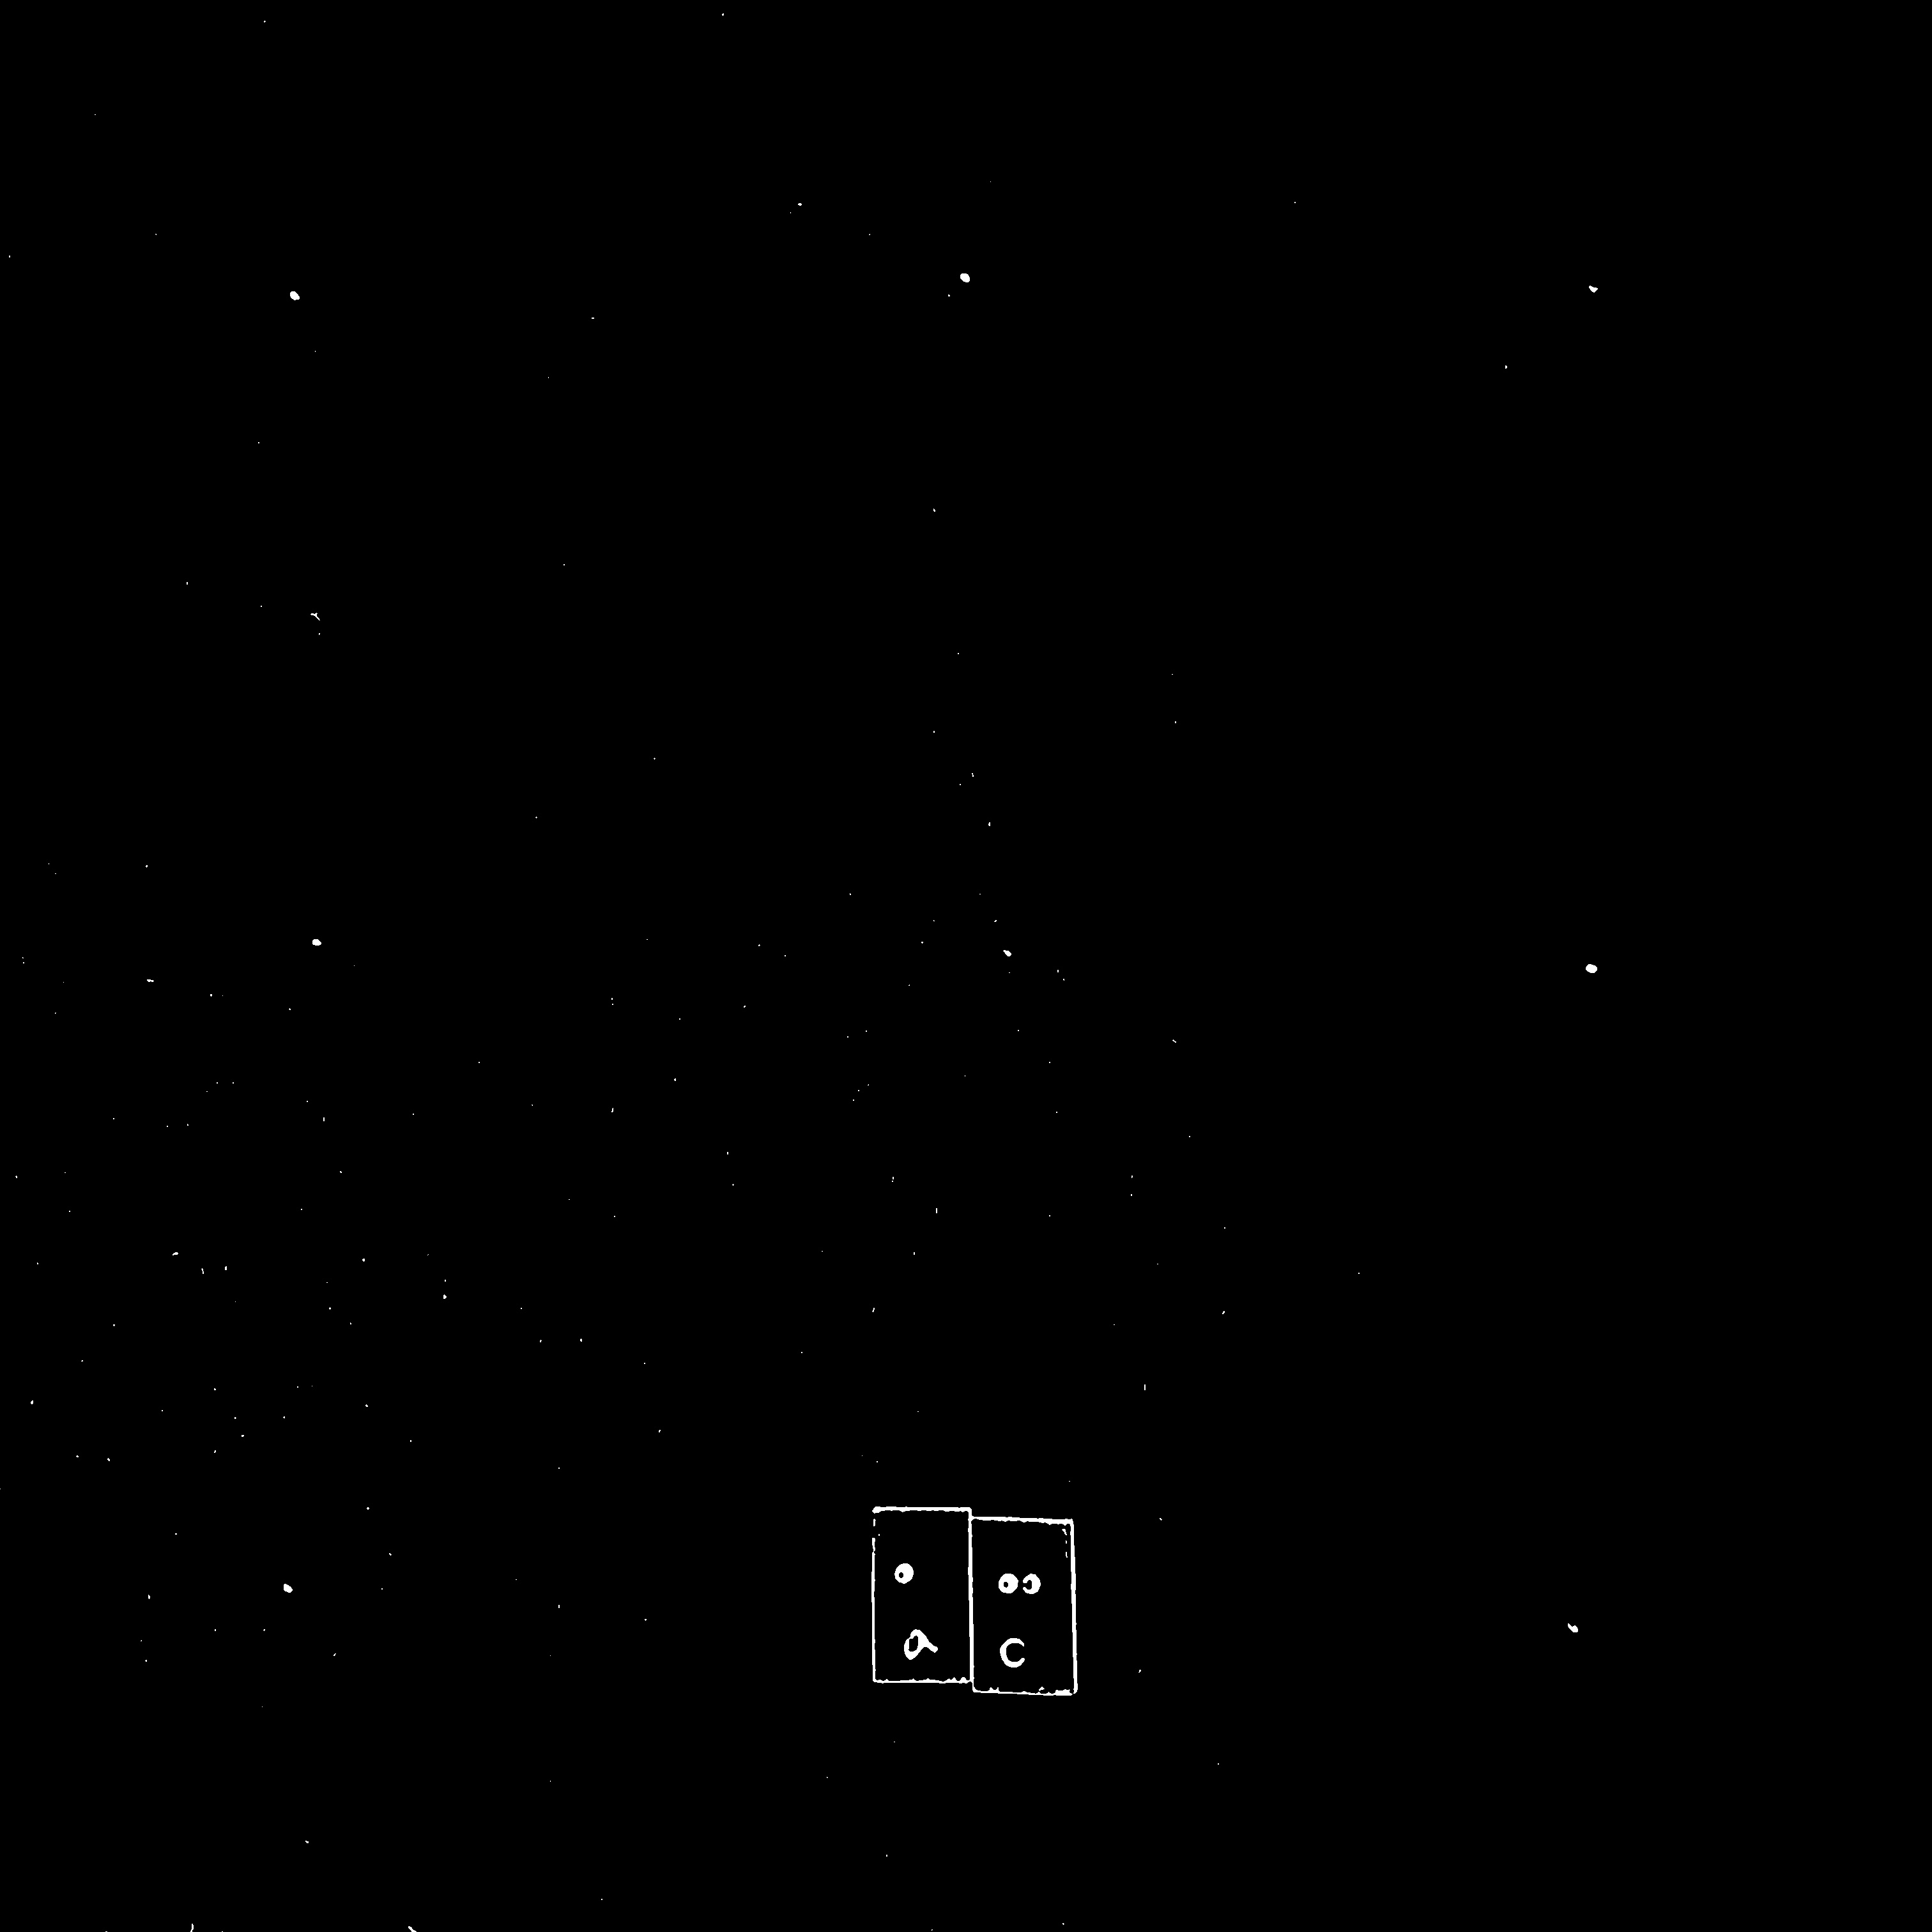a: (893, 1551, 944, 1632)
c: (992, 1558, 1054, 1637)
